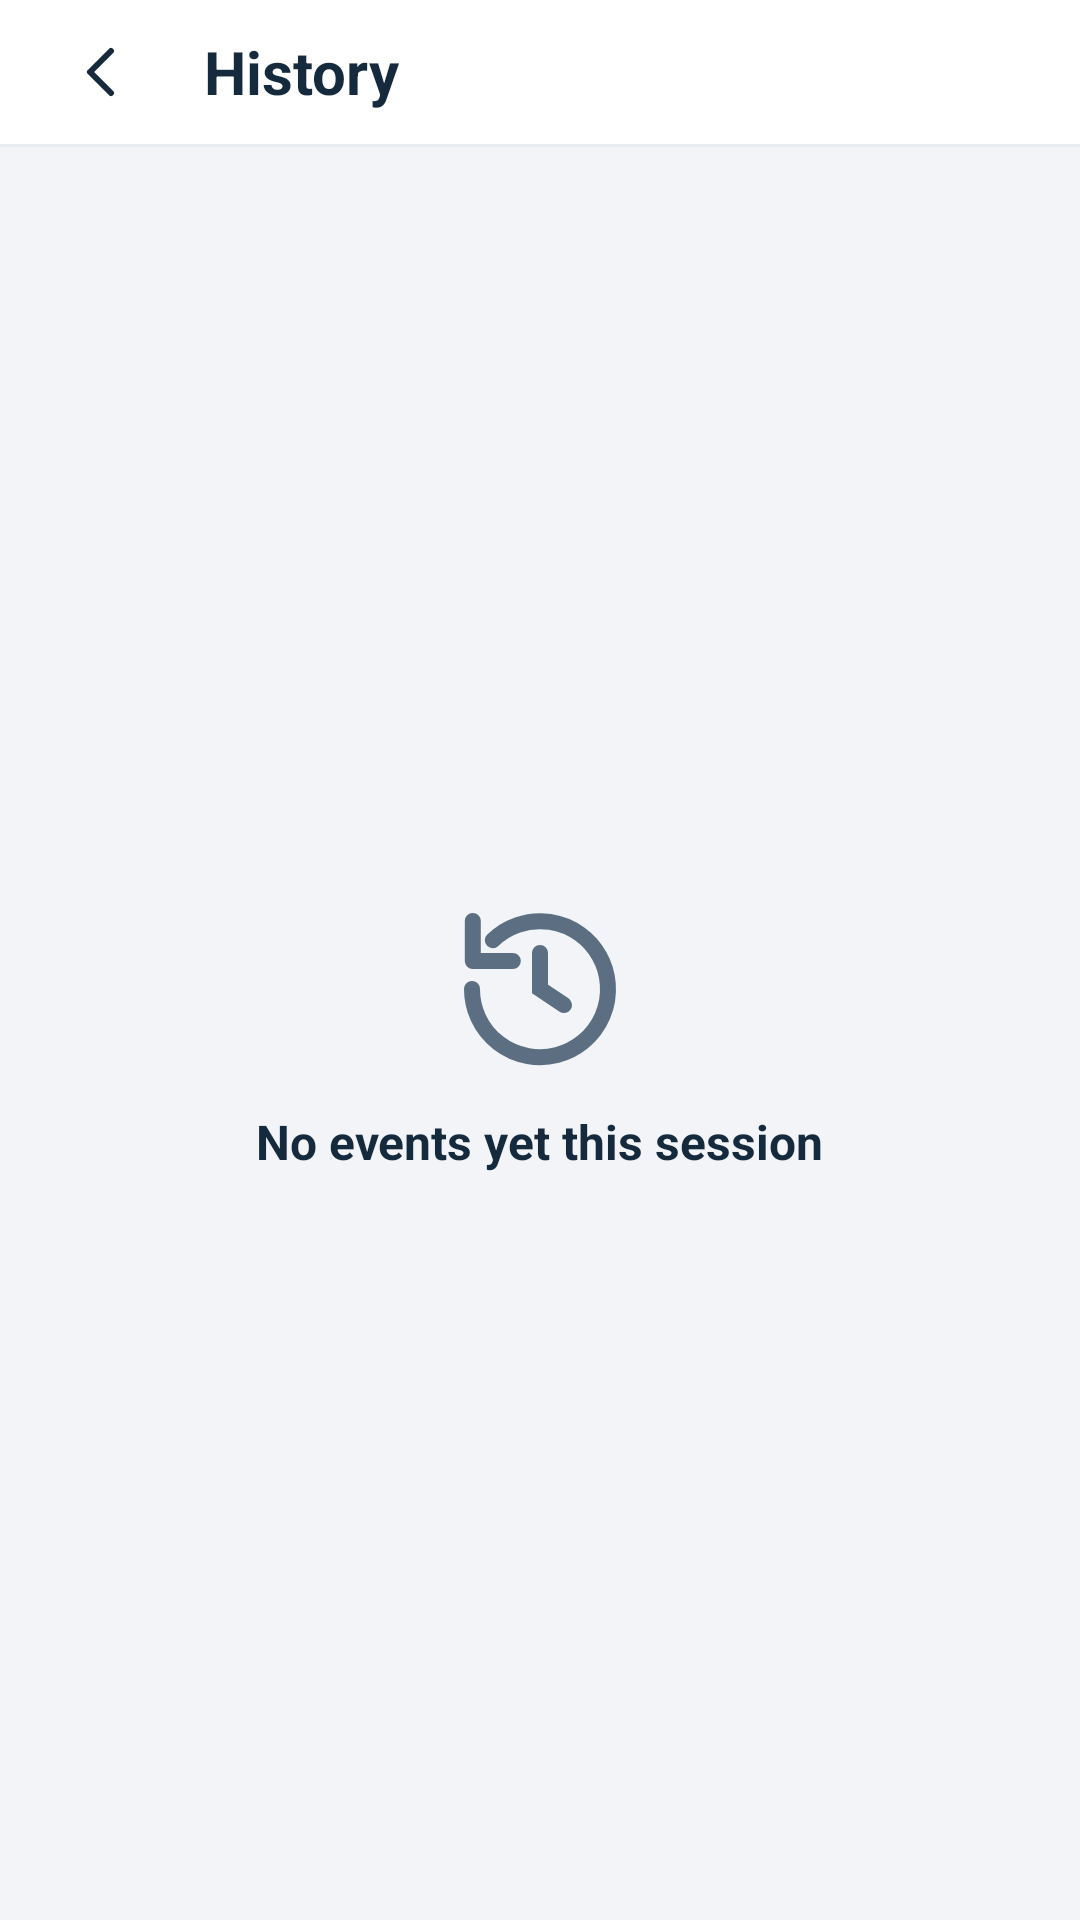

Icons on this 1080 x 1920 Android screen, each with its box as (x1, y1, x2, y2):
history: (464, 913, 616, 1066)
